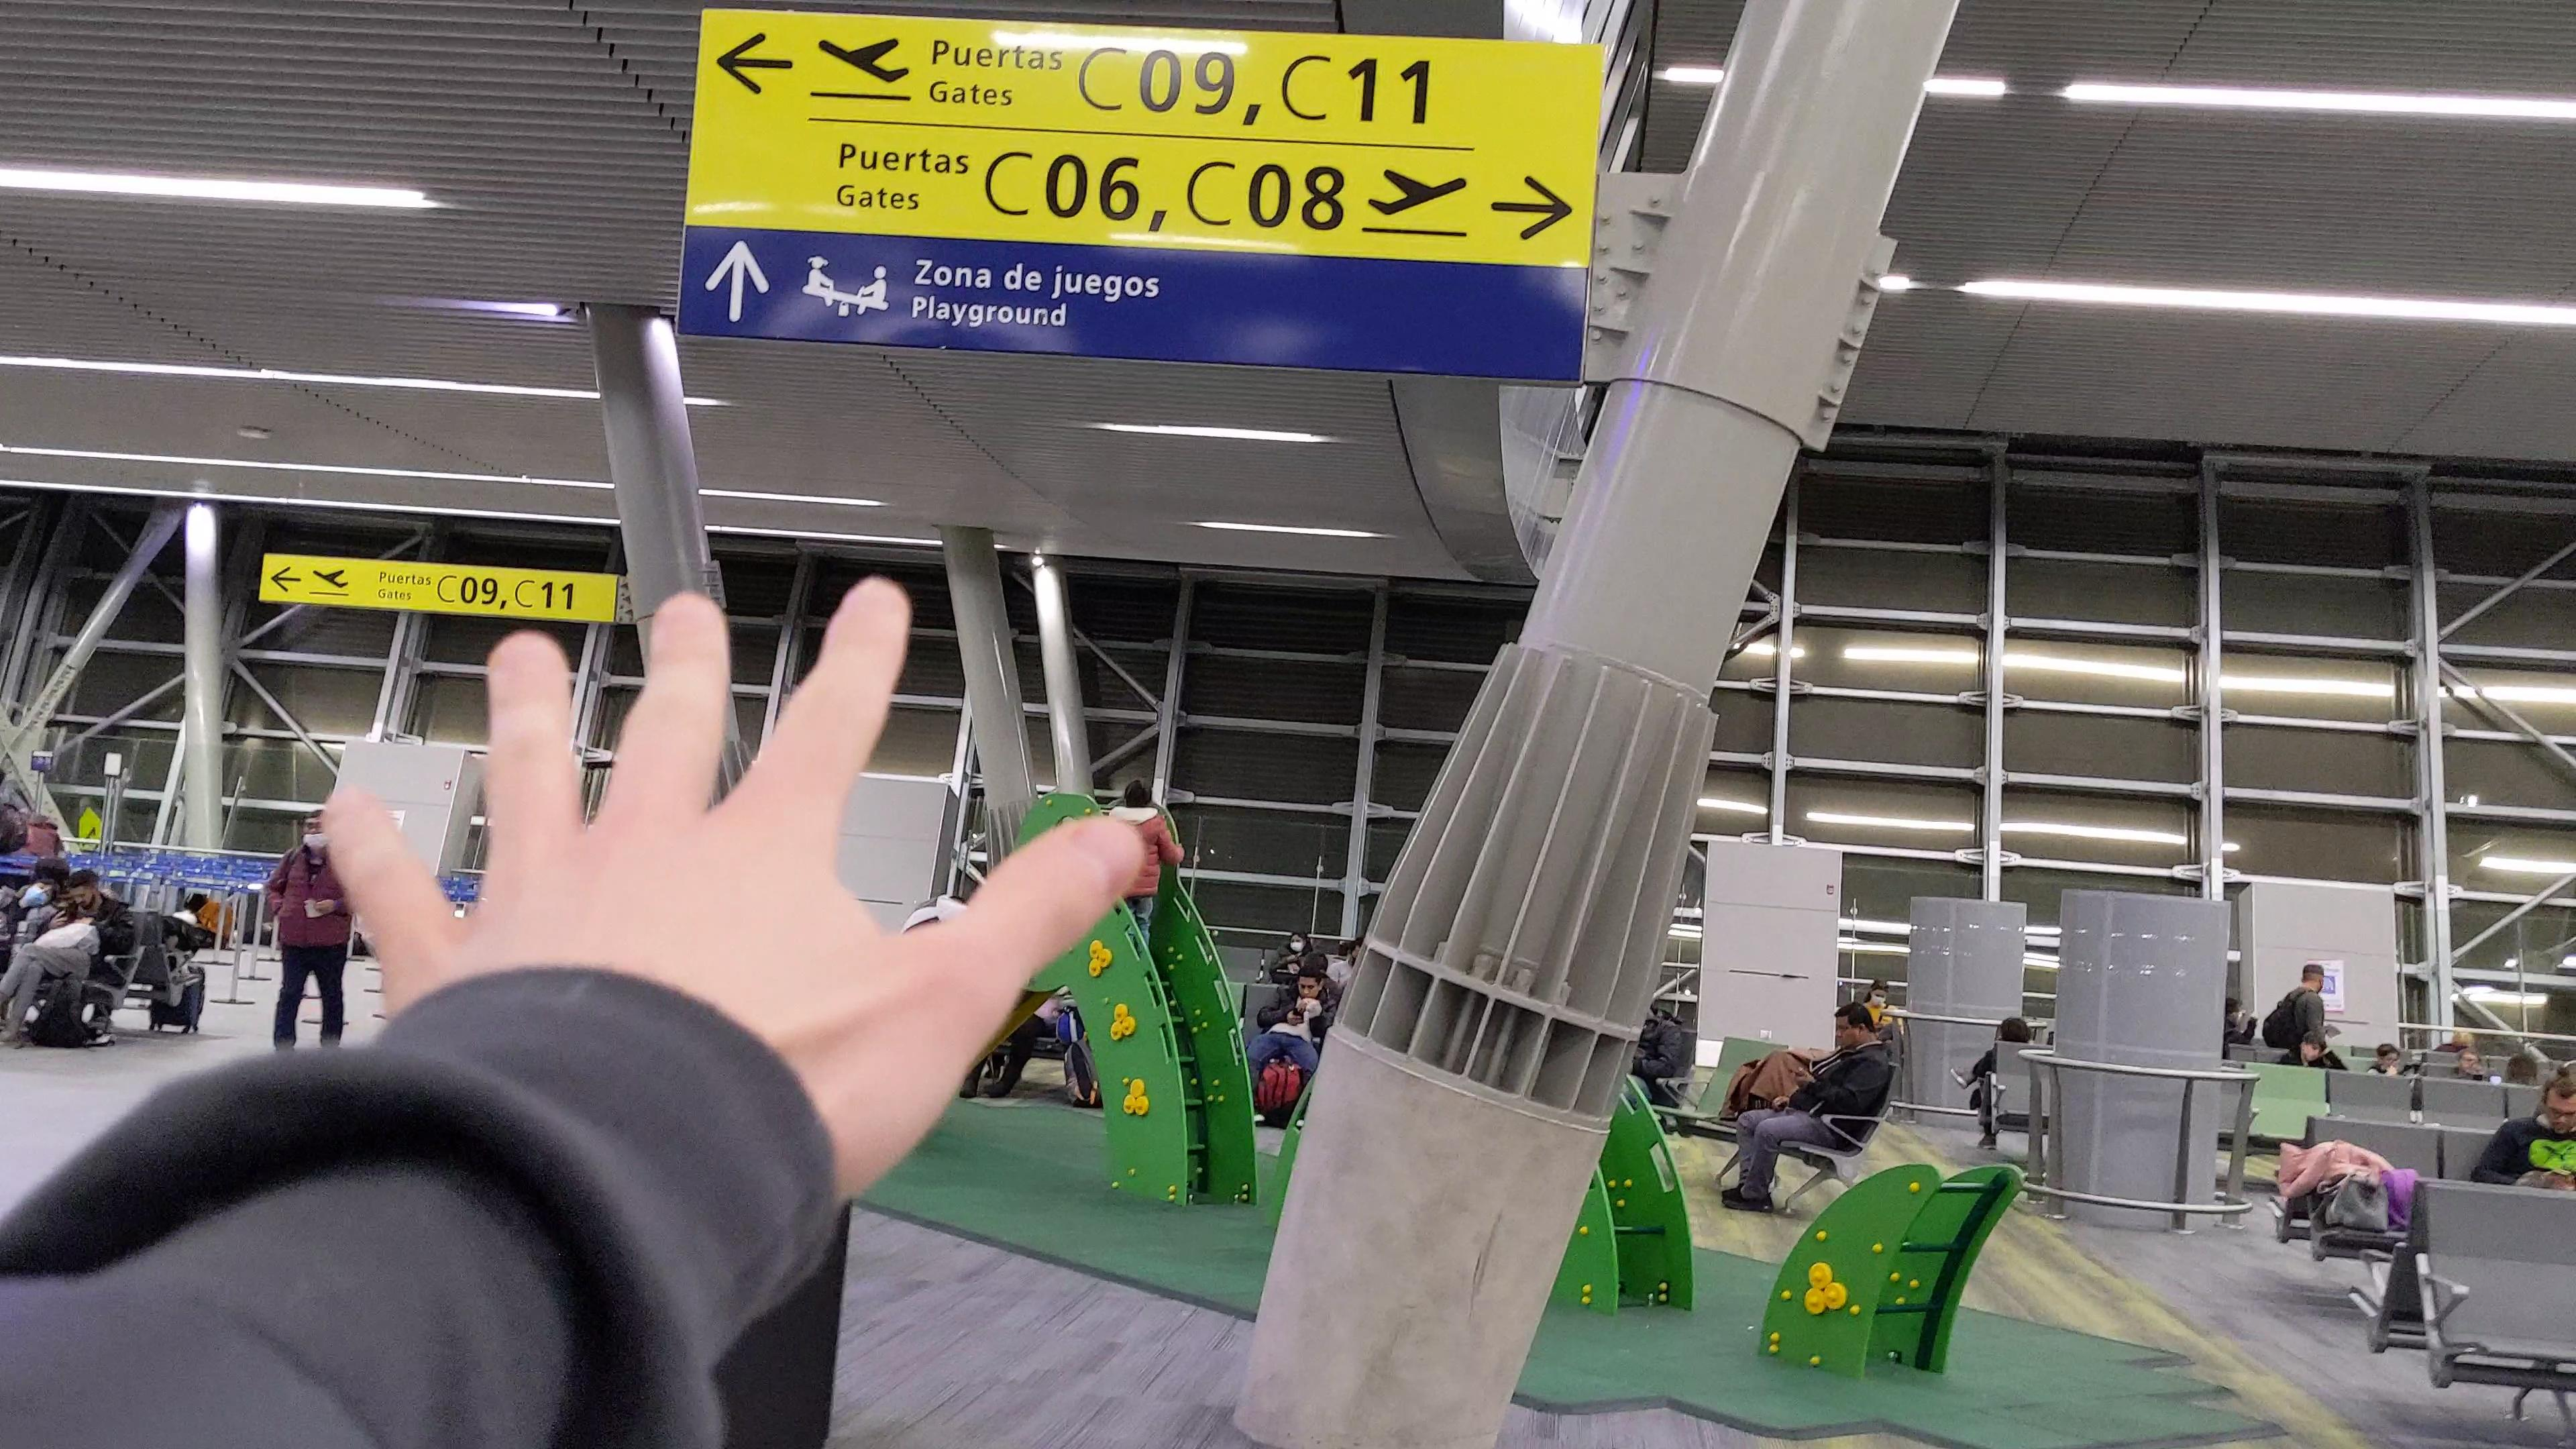airplane symbol: (814, 35, 915, 87), (1364, 168, 1472, 216), (310, 566, 352, 591)
thin left arrow: (715, 25, 796, 101), (267, 564, 303, 593)
thin right arrow: (1491, 173, 1576, 242)
thin up arrow: (702, 239, 771, 326)
